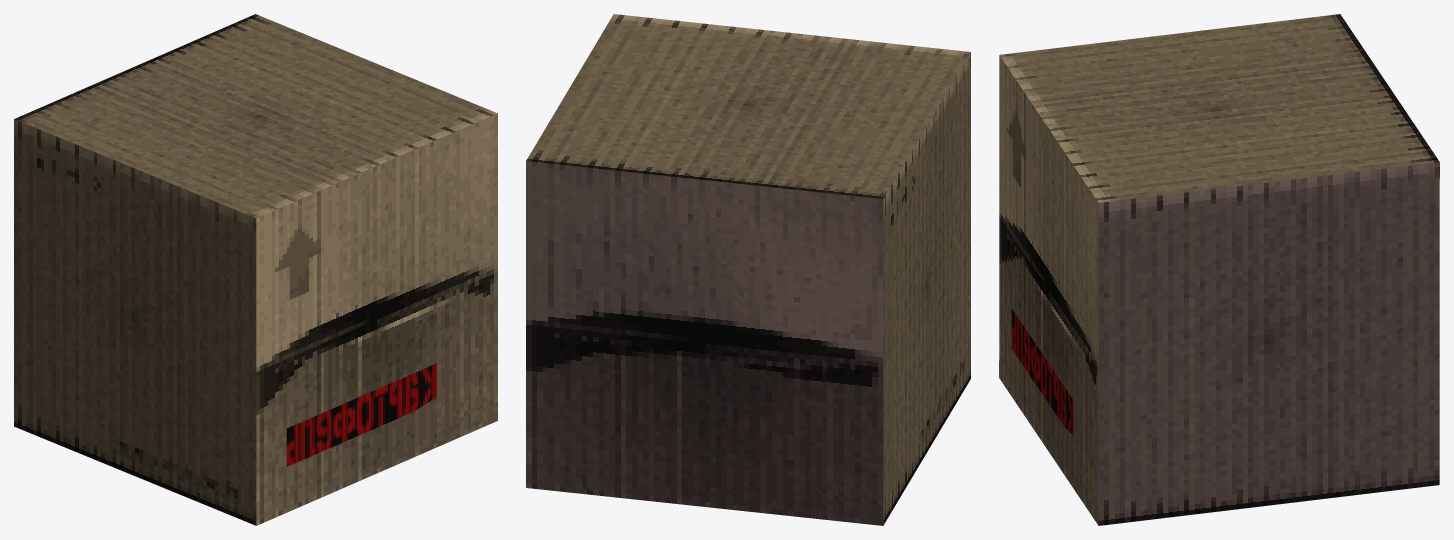
Rendered from primary_163.glb.
3 renders of one model, left to right at view 1: azimuth 30°, elevation 25°; view 2: azimuth 150°, elevation 25°; view 3: azimuth 270°, elevation 25°, orthographic. The views are drawn at different scales.
Parts seen in each view (by area): view 1: Object; view 2: Object; view 3: Object.
Part boxes in pixels (x1,y1,x2,y2): Object: [14, 14, 497, 525]; Object: [526, 14, 970, 525]; Object: [999, 14, 1439, 525].
Bounding box in the file's own units: 1.37 × 1.09 × 1.35.
7 materials, 7 textured.
